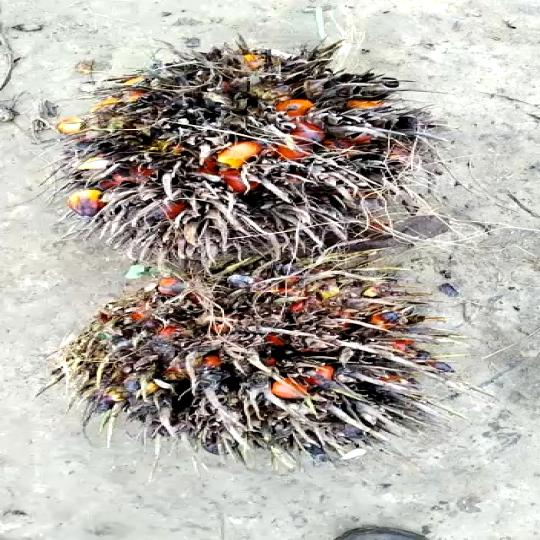terlalu masak: (54, 38, 443, 271), (56, 275, 472, 462)
